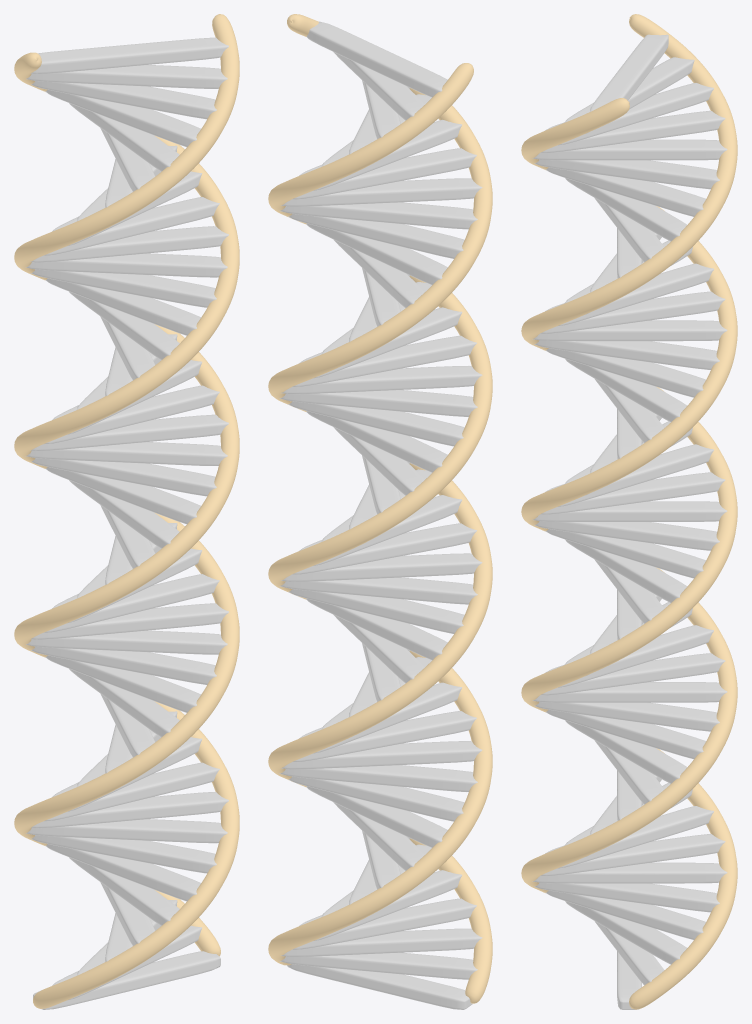
Rendered from dna2.gltf.
3 renders of one model, left to right at view 1: azimuth 30°, elevation 25°; view 2: azimuth 150°, elevation 25°; view 3: azimuth 270°, elevation 25°, orthographic. The views are drawn at different scales.
Parts seen in each view (by area): view 1: inner, outer; view 2: inner, outer; view 3: inner, outer.
Boxes of the visible parts, x1,y1,x2,y2 form: inner: (25, 37, 228, 1009); outer: (14, 14, 239, 1008); inner: (279, 21, 482, 1009); outer: (268, 14, 492, 1003); inner: (532, 34, 727, 1009); outer: (521, 14, 737, 1009).
Bounding box in the file's own units: 1.08 × 5.05 × 1.08.
